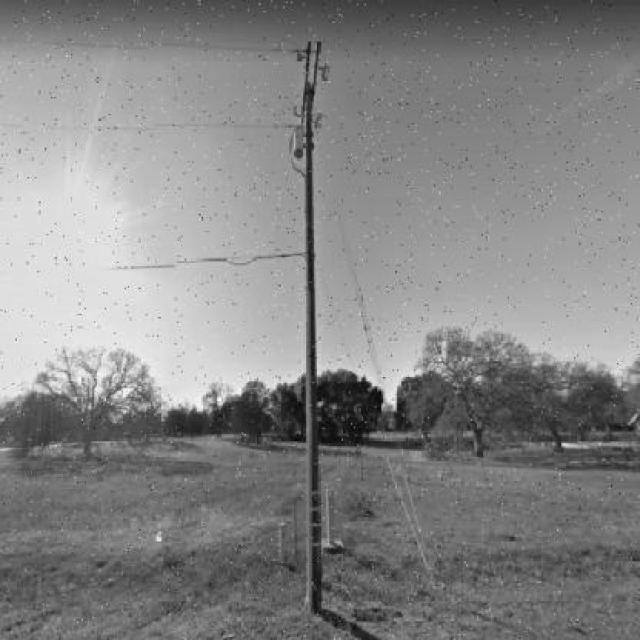pole: (262, 24, 348, 618)
